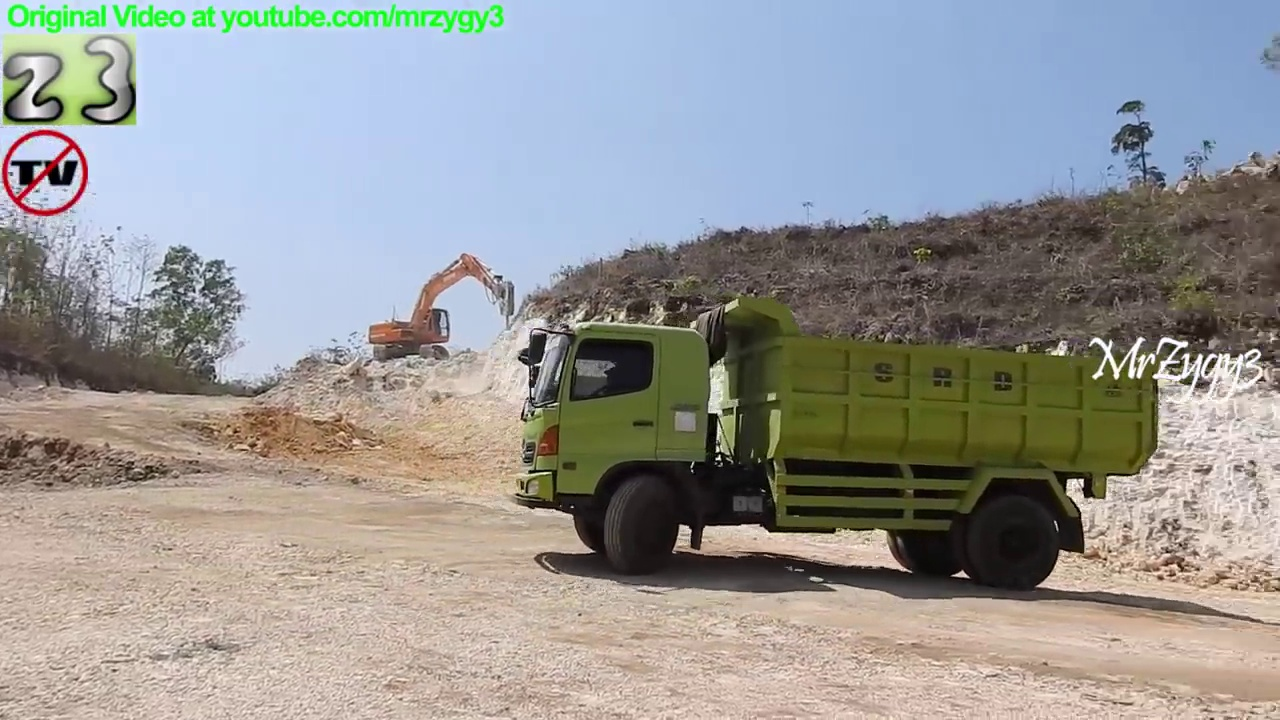excavator breaker: (364, 247, 519, 368)
truck: (507, 290, 1167, 595)
